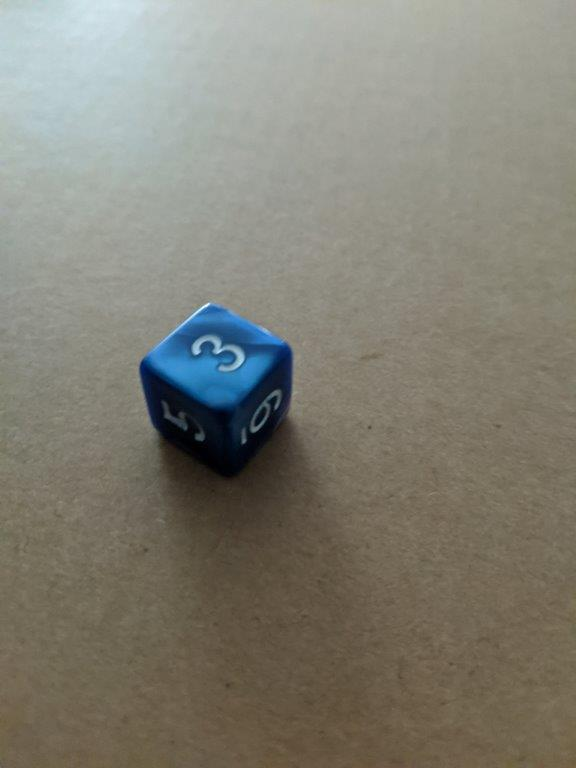d6-3: (140, 301, 296, 478)
